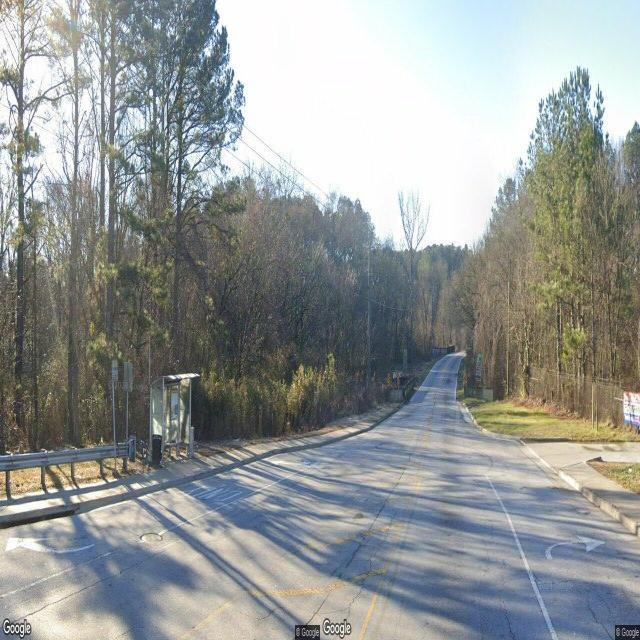seating: (166, 436, 184, 460)
shelter: (149, 372, 201, 466)
trash_can: (2, 616, 32, 640), (152, 434, 162, 467), (189, 426, 194, 459)
